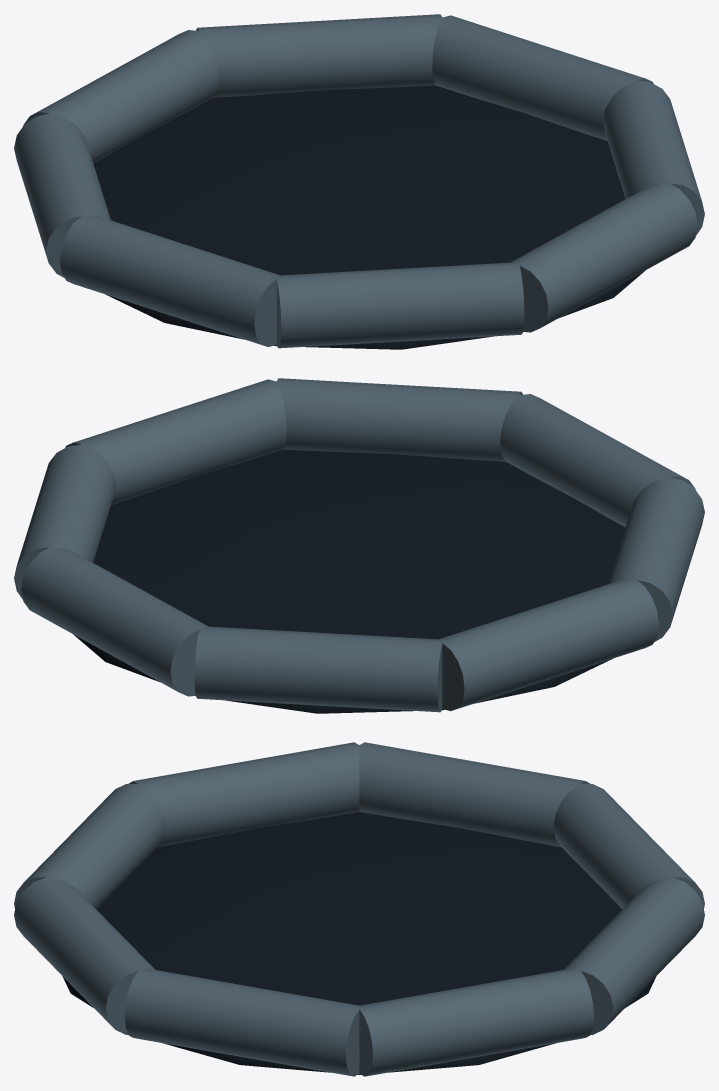
The model's file is CMU3DHiveXenoResinHole.glb.
The picture shows the model from 3 angles, top to bottom: view 1: azimuth 30°, elevation 25°; view 2: azimuth 150°, elevation 25°; view 3: azimuth 270°, elevation 25°; orthographic projection. The views are drawn at different scales.
Parts seen in each view (by area): view 1: continuous fleshy rim (×8), recessed dark entrance; view 2: continuous fleshy rim (×8), recessed dark entrance; view 3: continuous fleshy rim (×8), recessed dark entrance.
Boxes of the visible parts, x1,y1,x2,y2 form: continuous fleshy rim (×8): [14, 14, 704, 348]; recessed dark entrance: [93, 85, 645, 349]; continuous fleshy rim (×8): [14, 378, 704, 712]; recessed dark entrance: [73, 449, 625, 713]; continuous fleshy rim (×8): [14, 742, 704, 1076]; recessed dark entrance: [62, 812, 656, 1074].
Size of the model in its own units: 0.4862 by 0.07 by 0.4862.
